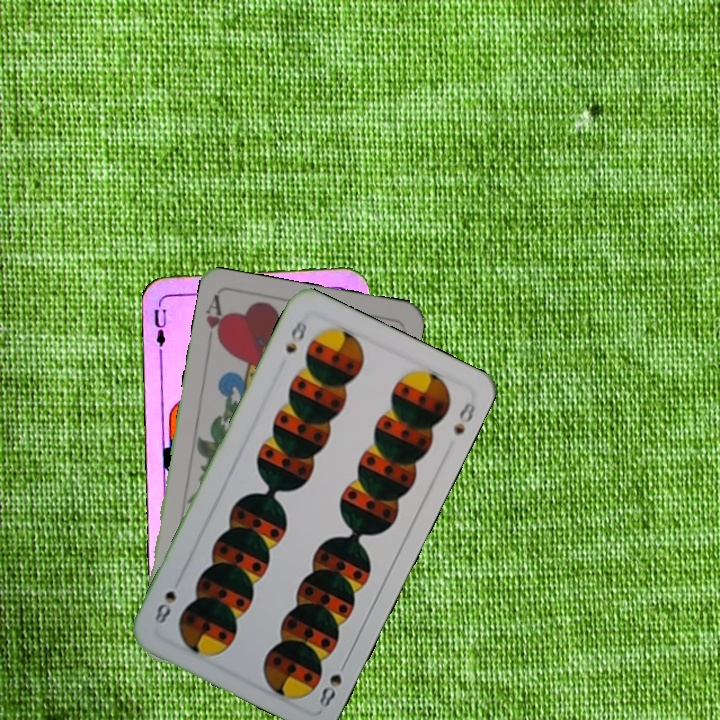EU: (150, 296, 169, 355)
HA: (201, 292, 229, 351)
S8: (315, 655, 351, 710), (281, 313, 310, 356)
